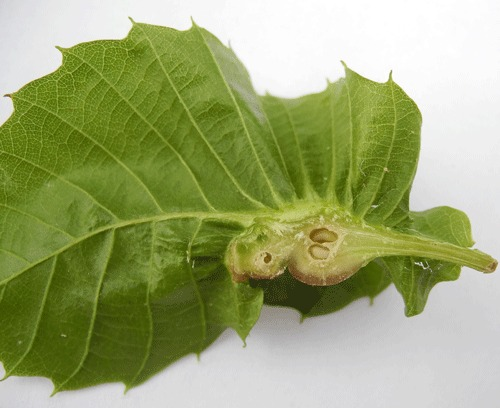galarisi: (208, 186, 394, 293)
